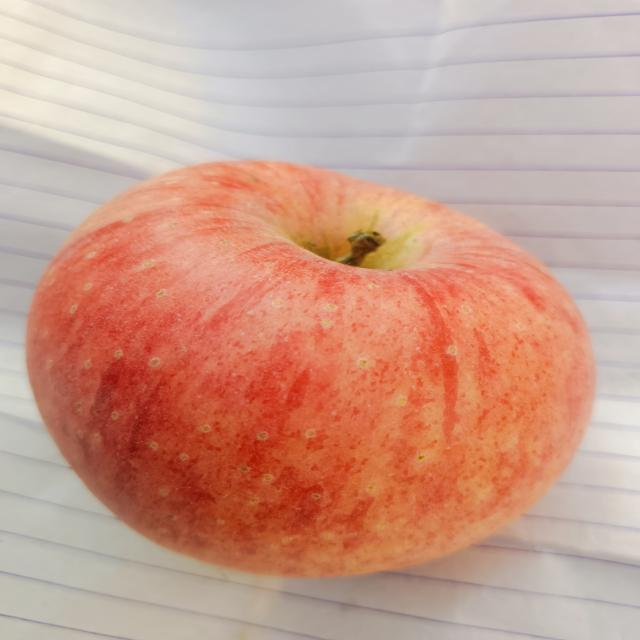Fresh Apple: (42, 164, 600, 568)
